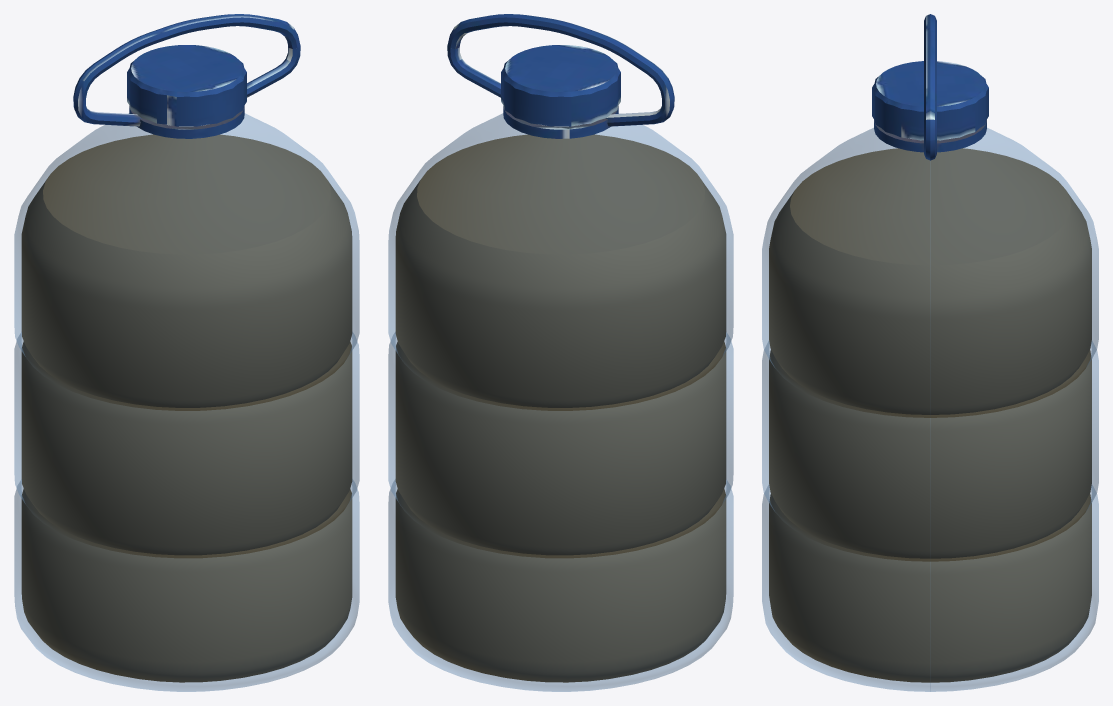
Rendered from galao_agua_suja.glb.
The picture shows the model from 3 angles, left to right: view 1: azimuth 30°, elevation 25°; view 2: azimuth 150°, elevation 25°; view 3: azimuth 270°, elevation 25°; orthographic projection. The views are drawn at different scales.
Parts seen in each view (by area): view 1: casca, agua, tampa; view 2: casca, agua, tampa; view 3: casca, agua, tampa.
Part boxes in pixels (x1,y1,x2,y2): casca: (14, 113, 359, 691); agua: (21, 134, 352, 682); tampa: (73, 14, 300, 138); casca: (388, 113, 733, 691); agua: (395, 134, 726, 682); tampa: (447, 14, 674, 138); casca: (762, 128, 1098, 691); agua: (769, 148, 1091, 682); tampa: (872, 14, 988, 160).
Size of the model in its own units: 0.17 by 0.3297 by 0.17.
3 materials, 1 textured.
